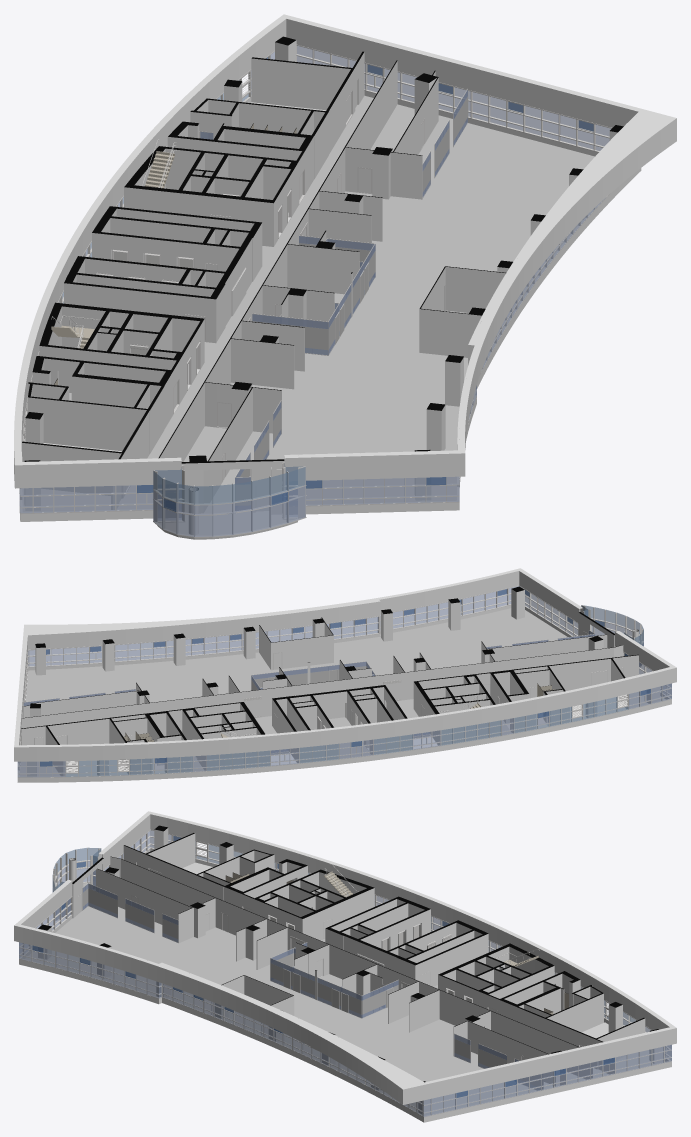
3 renders of one model, top to bottom at view 1: azimuth 30°, elevation 25°; view 2: azimuth 150°, elevation 25°; view 3: azimuth 270°, elevation 25°, orthographic. The views are drawn at different scales.
Visible parts, largest first — view 1: A1-15F-Wall1, A1-15F-Floor, A1-15F-Dry Wall, A1-15F-In Dry Wall, A1-15F-Glass1, A1-15F-Frame, A1-15F-Column, A1-15F-Glass Wall, A1-15F-Door, A1-15F-Glass2, A1-15F-Wall2, A1-15F-Elevator (+2 smaller); view 2: A1-15F-Wall1, A1-15F-Floor, A1-15F-In Dry Wall, A1-15F-Dry Wall, A1-15F-Glass1, A1-15F-Frame, A1-15F-Glass2, A1-15F-Column, A1-15F-Door, A1-15F-Glass Wall, A1-15F-Glass3, A1-15F-Vent (+1 smaller); view 3: A1-15F-Wall1, A1-15F-Floor, A1-15F-Dry Wall, A1-15F-In Dry Wall, A1-15F-Glass1, A1-15F-Frame, A1-15F-Glass Wall, A1-15F-Column, A1-15F-Door, A1-15F-Glass2, A1-15F-Glass3, A1-15F-Elevator (+2 smaller).
Part boxes in pixels (x1,y1,x2,y2): A1-15F-Wall1: [21, 51, 512, 513]; A1-15F-Floor: [22, 95, 594, 539]; A1-15F-Dry Wall: [14, 14, 676, 488]; A1-15F-In Dry Wall: [19, 17, 641, 521]; A1-15F-Glass1: [19, 46, 610, 536]; A1-15F-Frame: [19, 44, 611, 537]; A1-15F-Column: [24, 36, 623, 534]; A1-15F-Glass Wall: [235, 89, 468, 510]; A1-15F-Door: [119, 79, 444, 511]; A1-15F-Glass2: [62, 80, 305, 504]; A1-15F-Wall2: [181, 459, 284, 514]; A1-15F-Elevator: [96, 190, 291, 390]; A1-15F-Wall1: [21, 617, 638, 775]; A1-15F-Floor: [20, 608, 665, 776]; A1-15F-In Dry Wall: [17, 570, 671, 782]; A1-15F-Dry Wall: [14, 568, 676, 761]; A1-15F-Glass1: [17, 586, 671, 777]; A1-15F-Frame: [17, 585, 671, 777]; A1-15F-Glass2: [66, 605, 643, 776]; A1-15F-Column: [27, 586, 659, 776]; A1-15F-Door: [34, 631, 623, 758]; A1-15F-Glass Wall: [23, 630, 595, 705]; A1-15F-Glass3: [40, 589, 650, 766]; A1-15F-Vent: [66, 694, 628, 773]; A1-15F-Wall1: [96, 833, 645, 1086]; A1-15F-Floor: [25, 862, 653, 1114]; A1-15F-Dry Wall: [14, 811, 676, 1104]; A1-15F-In Dry Wall: [19, 813, 671, 1122]; A1-15F-Glass1: [19, 830, 671, 1116]; A1-15F-Frame: [19, 829, 671, 1117]; A1-15F-Glass Wall: [82, 883, 543, 1090]; A1-15F-Column: [38, 825, 662, 1115]; A1-15F-Door: [77, 862, 604, 1071]; A1-15F-Glass2: [52, 844, 635, 1025]; A1-15F-Glass3: [32, 835, 614, 1097]; A1-15F-Elevator: [268, 908, 491, 1002].
Bounding box in the file's own units: 71.25 × 5.2 × 71.71.
